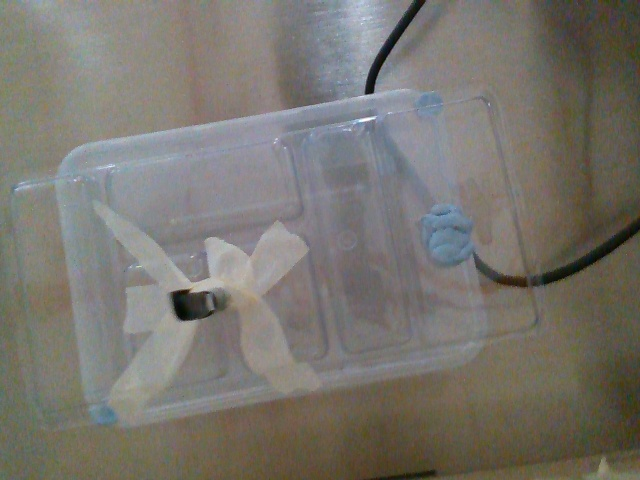test_strip: (165, 287, 213, 323)
